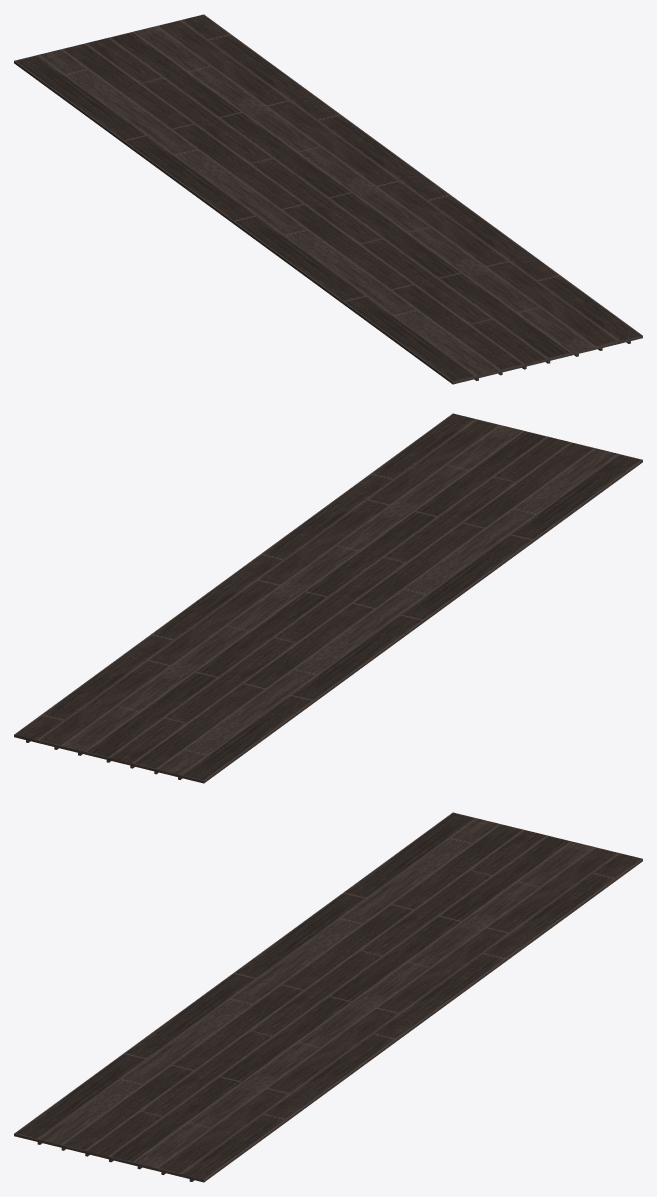
Rendered from 1-3_Floor_up.fbx.
3 views of the same model, one above another, from view 1: azimuth 30°, elevation 25°; view 2: azimuth 150°, elevation 25°; view 3: azimuth 330°, elevation 25° (orthographic).
Parts seen in each view (by area): view 1: _Combined Mesh [ 1-3_FloorUP]; view 2: _Combined Mesh [ 1-3_FloorUP]; view 3: _Combined Mesh [ 1-3_FloorUP].
Boxes of the visible parts, left/top/right/bottom form: _Combined Mesh [ 1-3_FloorUP]: left=14, top=14, right=642, bottom=384; _Combined Mesh [ 1-3_FloorUP]: left=14, top=413, right=642, bottom=783; _Combined Mesh [ 1-3_FloorUP]: left=14, top=812, right=642, bottom=1182.
Size of the model in its own units: 1.2 by 0.03 by 4.8.
